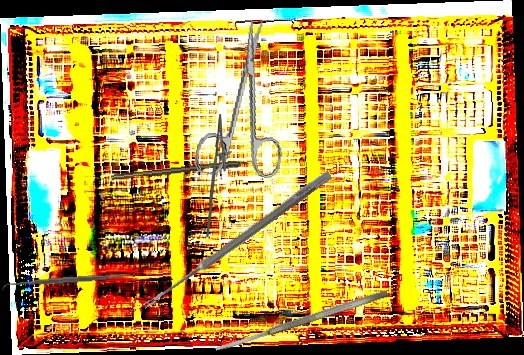Hook Surgical: (111, 158, 260, 181)
Iris Scissors: (193, 14, 302, 185)
Needle Holder: (203, 113, 234, 238)
Spatula Surgical: (213, 288, 390, 354), (0, 267, 141, 292)
Surgical Spoon: (141, 169, 333, 312)
